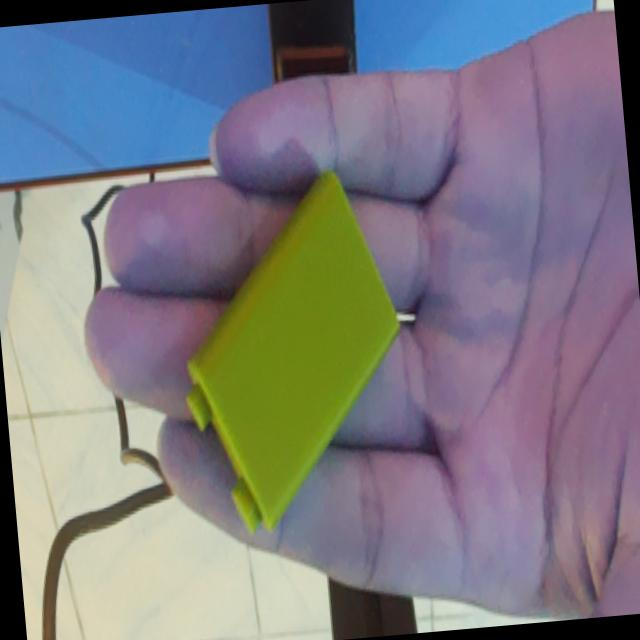bateria: (185, 170, 400, 537)
